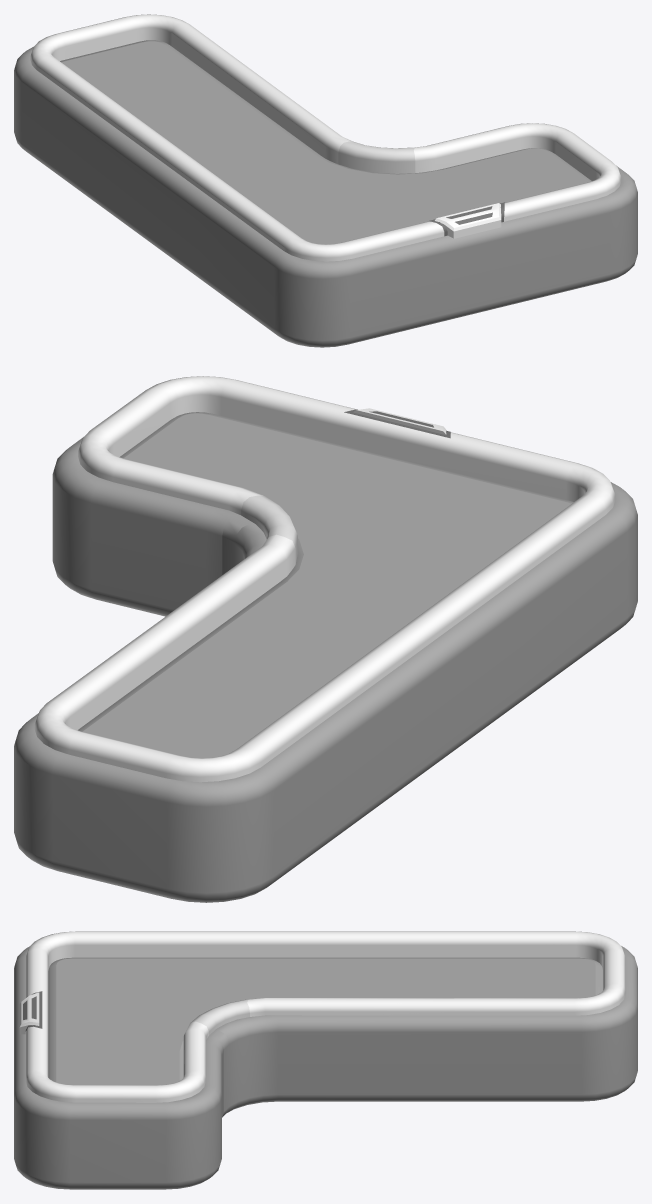
The model's file is Model_Block_L_Long_New.fbx.
3 views of the same model, one above another, from view 1: azimuth 30°, elevation 25°; view 2: azimuth 150°, elevation 25°; view 3: azimuth 270°, elevation 25° (orthographic). The views are drawn at different scales.
Parts seen in each view (by area): view 1: BLL_BG, BLL_Water, BLL_Stroke; view 2: BLL_BG, BLL_Water, BLL_Stroke; view 3: BLL_BG, BLL_Water, BLL_Stroke.
Part boxes in pixels (x1,y1,x2,y2): BLL_BG: [14, 46, 637, 347]; BLL_Water: [60, 40, 591, 244]; BLL_Stroke: [30, 14, 621, 261]; BLL_BG: [14, 437, 637, 902]; BLL_Water: [78, 412, 573, 758]; BLL_Stroke: [34, 376, 615, 782]; BLL_BG: [14, 946, 637, 1189]; BLL_Water: [48, 957, 602, 1085]; BLL_Stroke: [19, 931, 625, 1102].
Bounding box in the file's own units: 197 × 51.35 × 296.
Materials: 2 (1 with a texture image).
